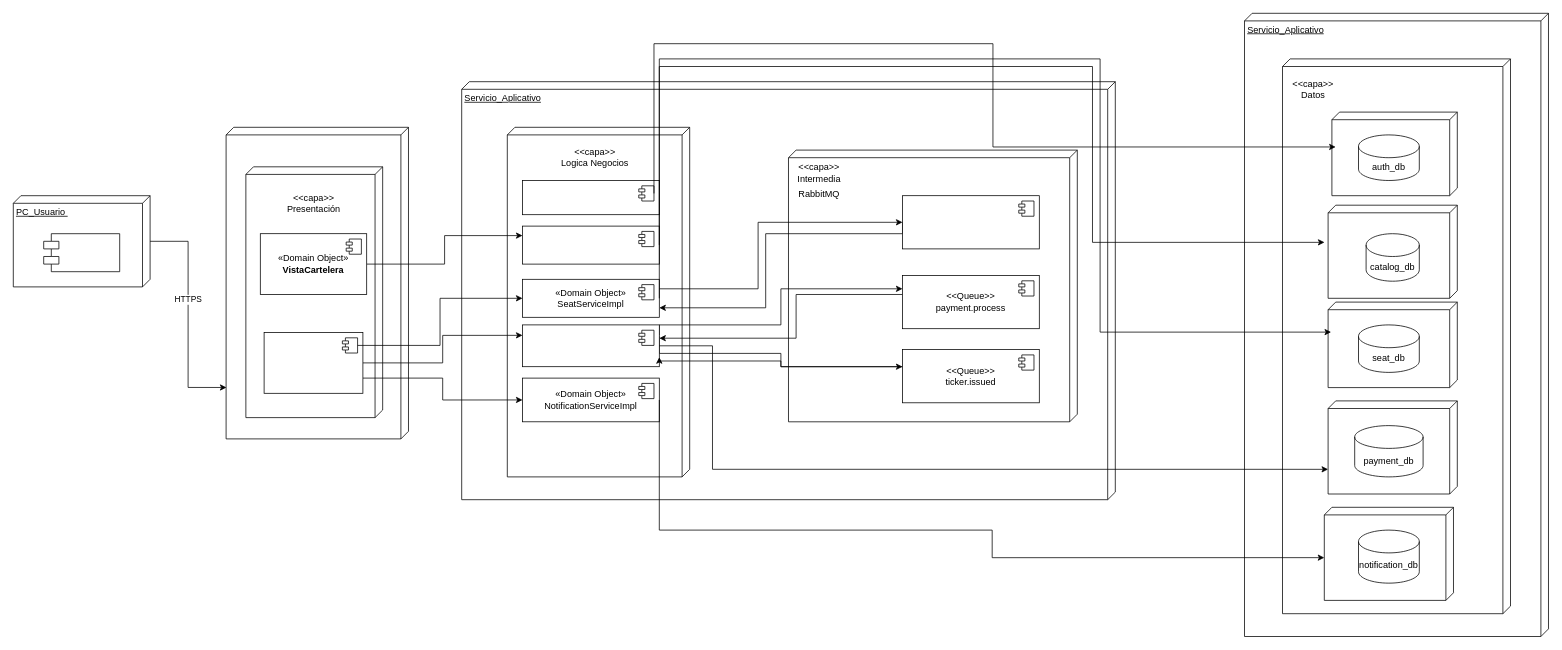
This 1562x650 diagram has some shape labels left out. Here are the shapes that lost their labels. From the top down, the box of each, then its label:
(522, 180, 659, 215): «Domain Object » AuthServiceImpl
(902, 195, 1039, 249): <<Queue>> seat.look
(43, 233, 120, 272): Navegador
(522, 225, 659, 264): «Domain Object » CatalogServiceImpl
(225, 127, 408, 439): Servicio_Web
(263, 332, 363, 393): «Domain Object» VistaCompraAsientos
(522, 324, 659, 367): «Domain Object » PaymentServiceImpl
